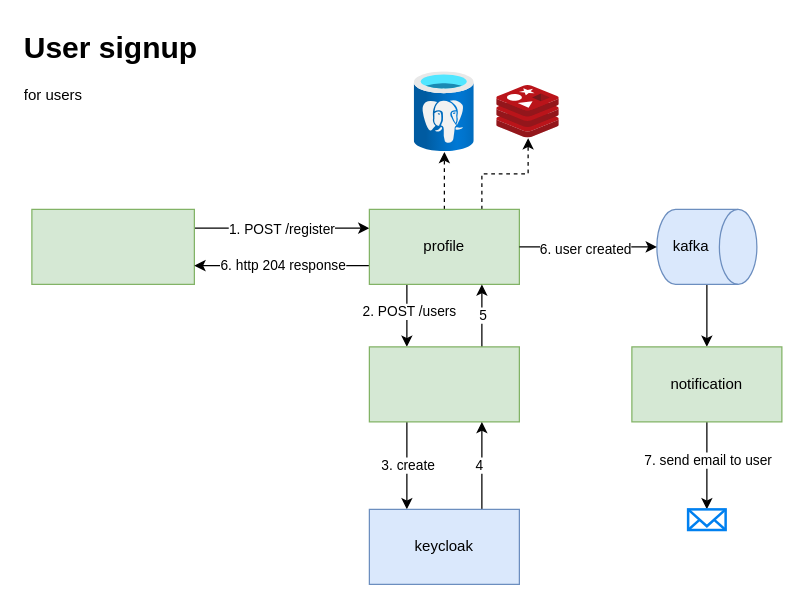
This 804x606 diagram has some shape labels left out. Here are the shapes that lost their labels. From the top down, the centre of each, then its label:
At point 112,246: "web application".
At point 443,384: "identity".
